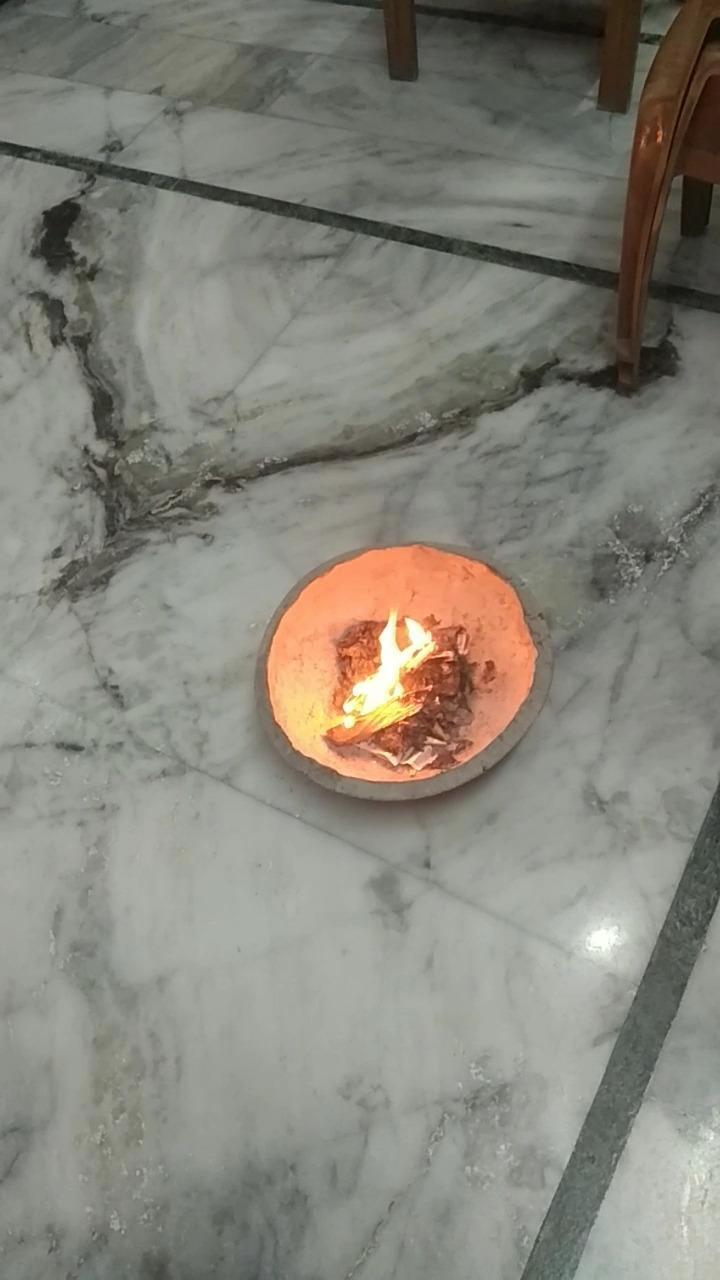fire: (325, 615, 440, 735)
